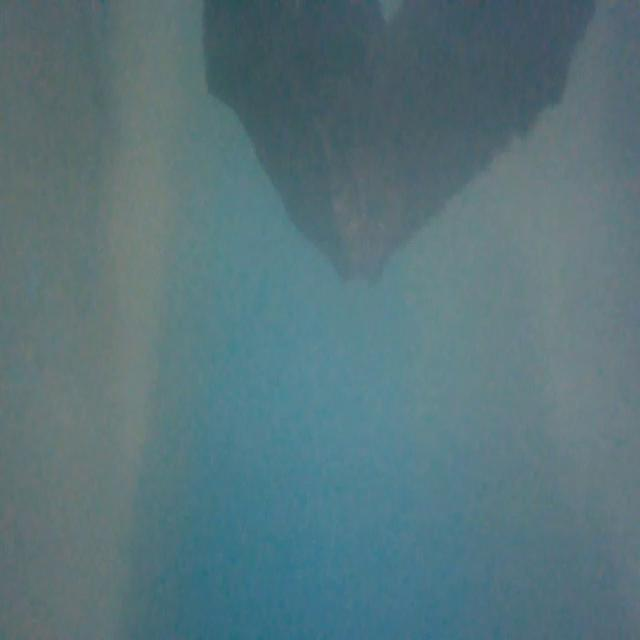plastic bags: (180, 0, 607, 294)
